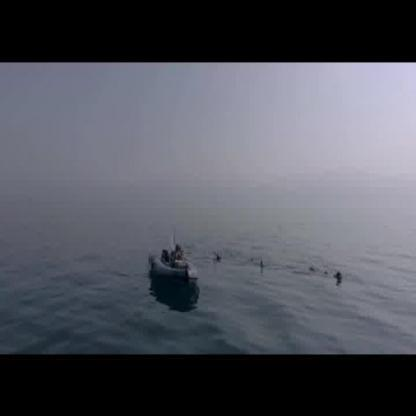Boat: (141, 244, 200, 292)
